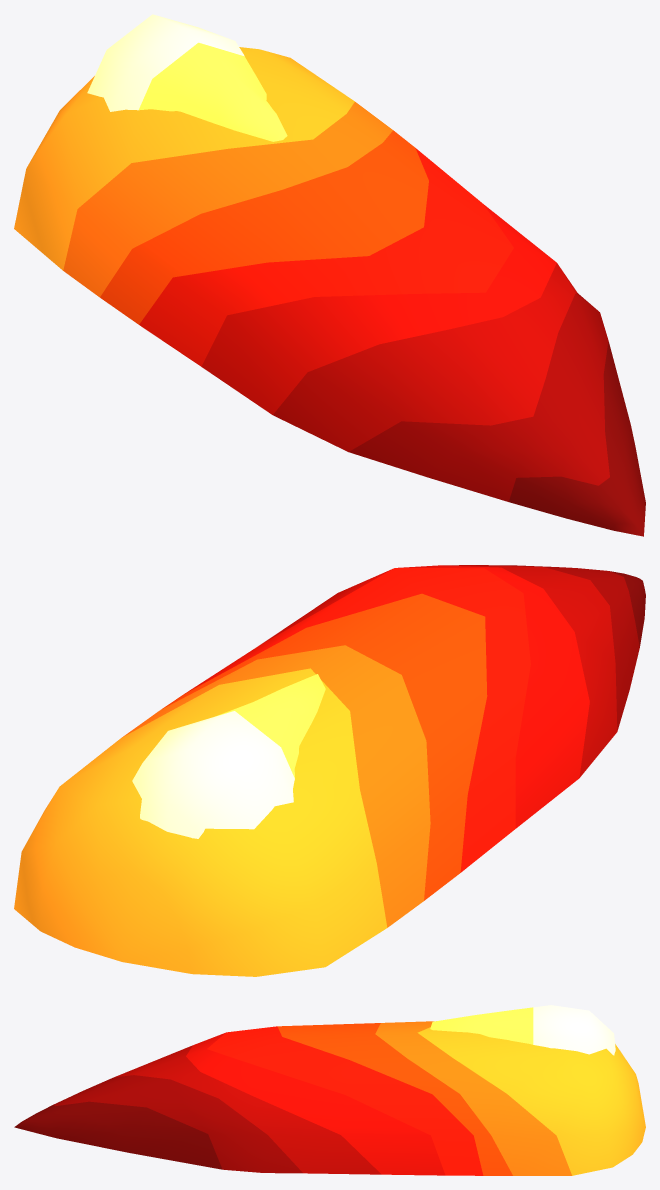
File: shot_pulse.glb
3 views of the same model, one above another, from view 1: azimuth 30°, elevation 25°; view 2: azimuth 150°, elevation 25°; view 3: azimuth 270°, elevation 25° (orthographic). The views are drawn at different scales.
Visible parts, largest first — view 1: shot_pulse_bolt0, shot_pulse_core0; view 2: shot_pulse_bolt0, shot_pulse_core0; view 3: shot_pulse_bolt0, shot_pulse_core0.
Part boxes in pixels (x1,y1,x2,y2): shot_pulse_bolt0: (14, 47, 645, 536); shot_pulse_core0: (87, 14, 287, 141); shot_pulse_bolt0: (14, 565, 645, 976); shot_pulse_core0: (132, 674, 325, 838); shot_pulse_bolt0: (14, 1021, 645, 1175); shot_pulse_core0: (430, 1005, 615, 1055).
Bounding box in the file's own units: 4 × 2.24 × 11.
